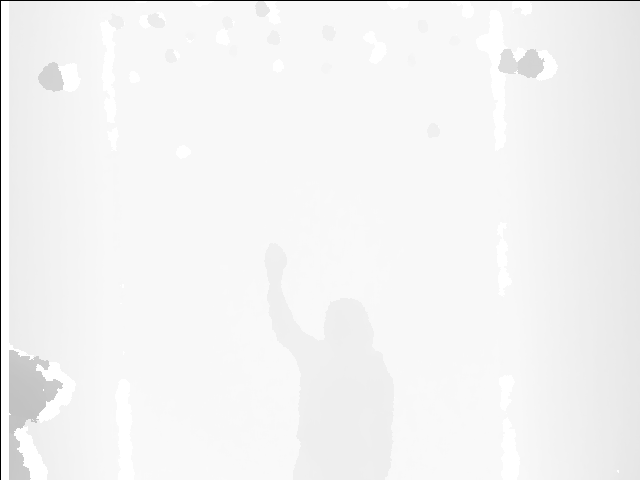hand: (262, 243, 288, 278)
